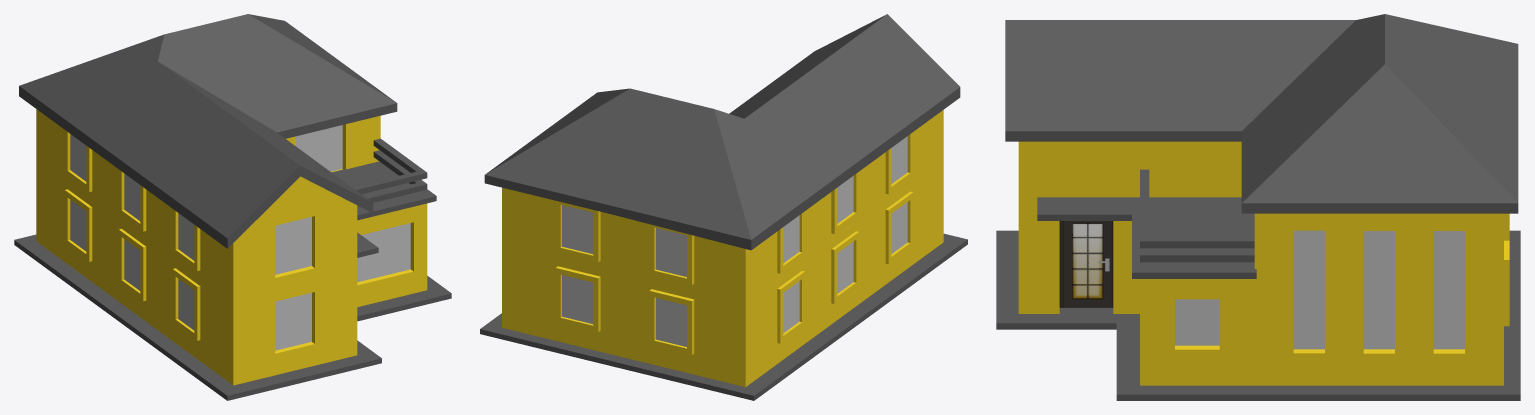
The model's file is Town_Bld_House_G.FBX.
3 renders of one model, left to right at view 1: azimuth 30°, elevation 25°; view 2: azimuth 150°, elevation 25°; view 3: azimuth 270°, elevation 25°, orthographic. The views are drawn at different scales.
Visible parts, largest first — view 1: Town_Bld_House_G; view 2: Town_Bld_House_G; view 3: Town_Bld_House_G.
Boxes of the visible parts, <box> form: Town_Bld_House_G: <box>14,14,451,400</box>; Town_Bld_House_G: <box>480,14,967,400</box>; Town_Bld_House_G: <box>996,14,1520,400</box>.
Size of the model in its own units: 558 by 444 by 754.
